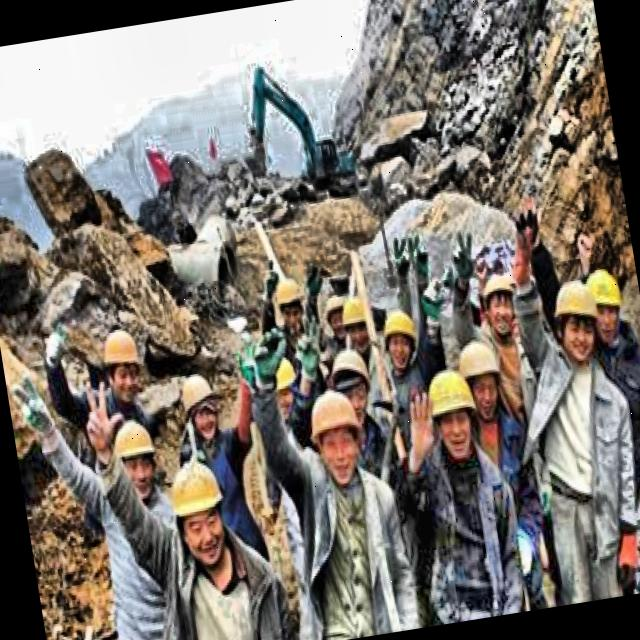helmet: (163, 446, 236, 574), (302, 382, 370, 488), (423, 364, 483, 460), (472, 258, 524, 348), (550, 276, 602, 364), (97, 322, 148, 404), (110, 415, 160, 495), (457, 338, 508, 416), (582, 262, 629, 342), (326, 345, 378, 416), (377, 304, 424, 374), (180, 372, 223, 442), (258, 354, 302, 417), (272, 272, 312, 334), (337, 292, 378, 352)
